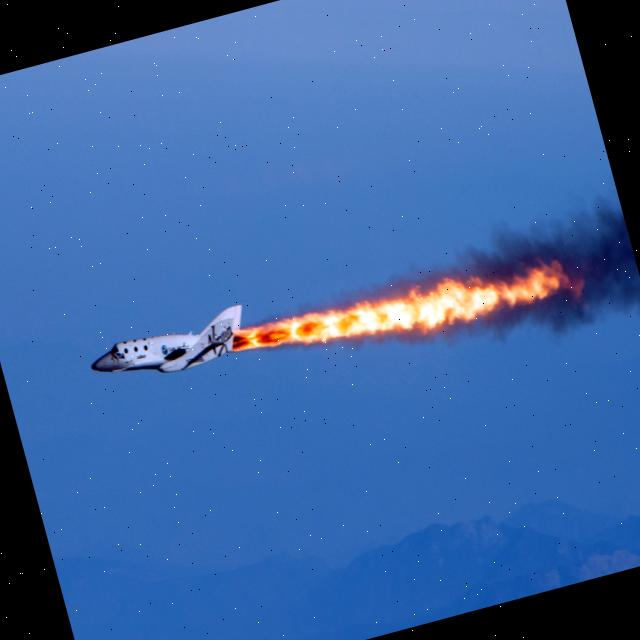rocket: (83, 294, 248, 382)
